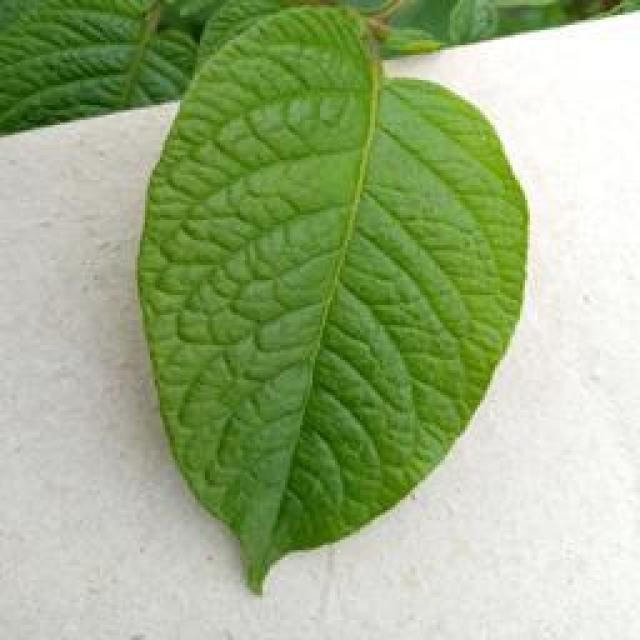healthy: (130, 0, 532, 598)
